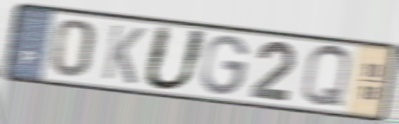0: (48, 17, 98, 81)
2: (248, 39, 300, 106)
G: (199, 33, 251, 97)
K: (99, 22, 148, 87)
Q: (299, 43, 353, 111)
U: (140, 23, 211, 93)
